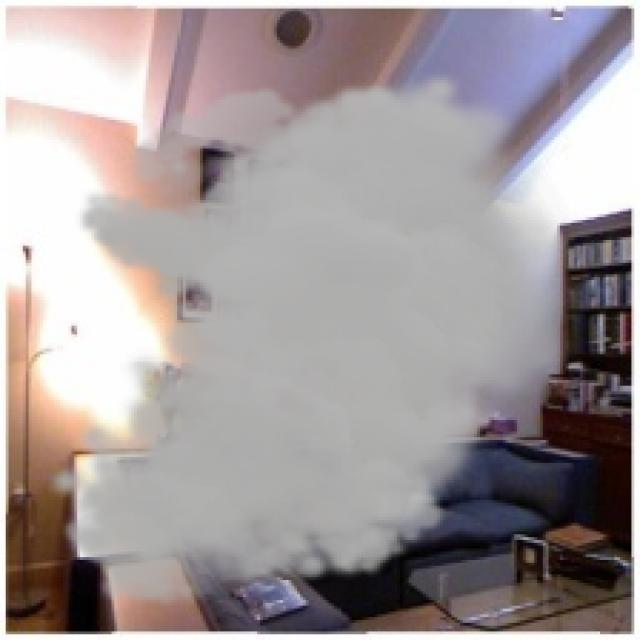Smoke: (43, 69, 586, 608)
